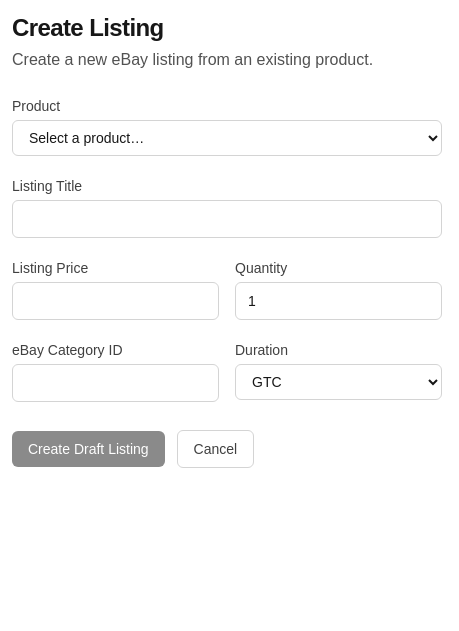
Test: NewListingForm › fetches preview when user selects a product
The width and height of the screenshot is (459, 631).
Select "B0TEST1 — Test Product One" in the dropdown labelled "Product": (227, 138) [12, 120, 442, 156]
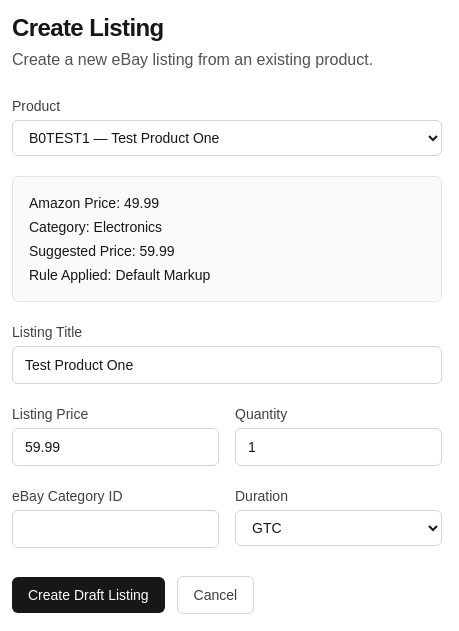
expect the text "59.99" is shown: met, box [140, 243, 174, 259]
